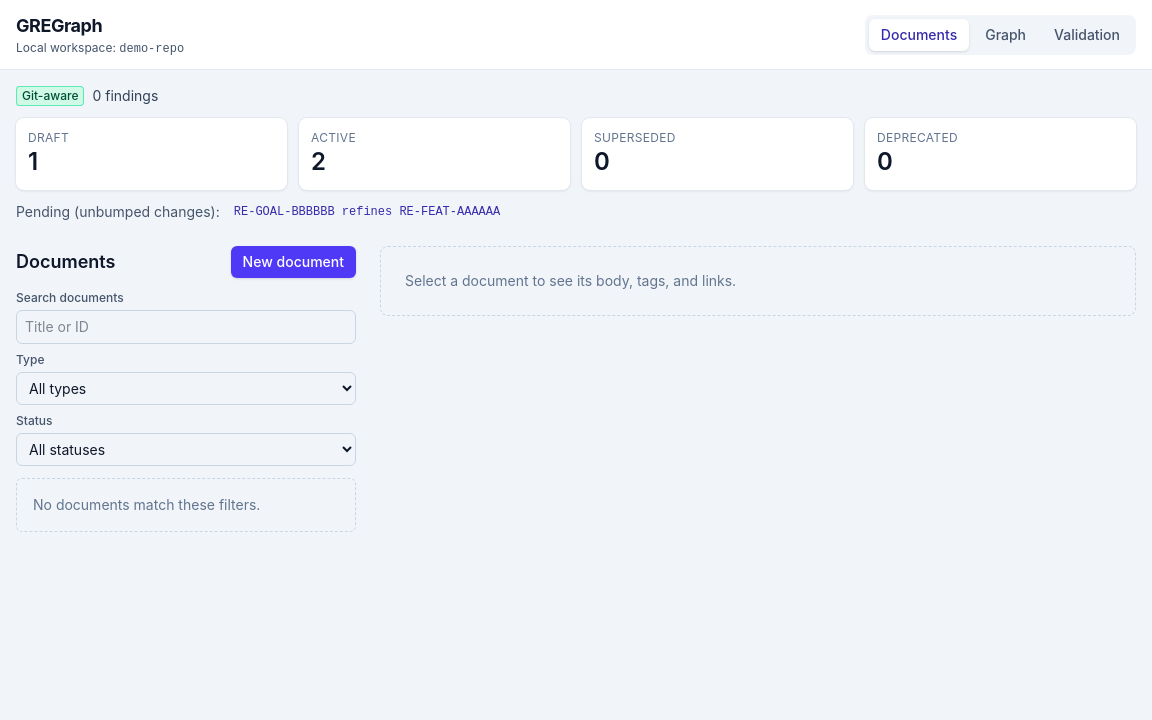
Test: App create dialog › omits the system cr type, creates a document, and selects it
The image size is (1152, 720).
Click the button "New document" at (293, 262), box [231,246,356,278]
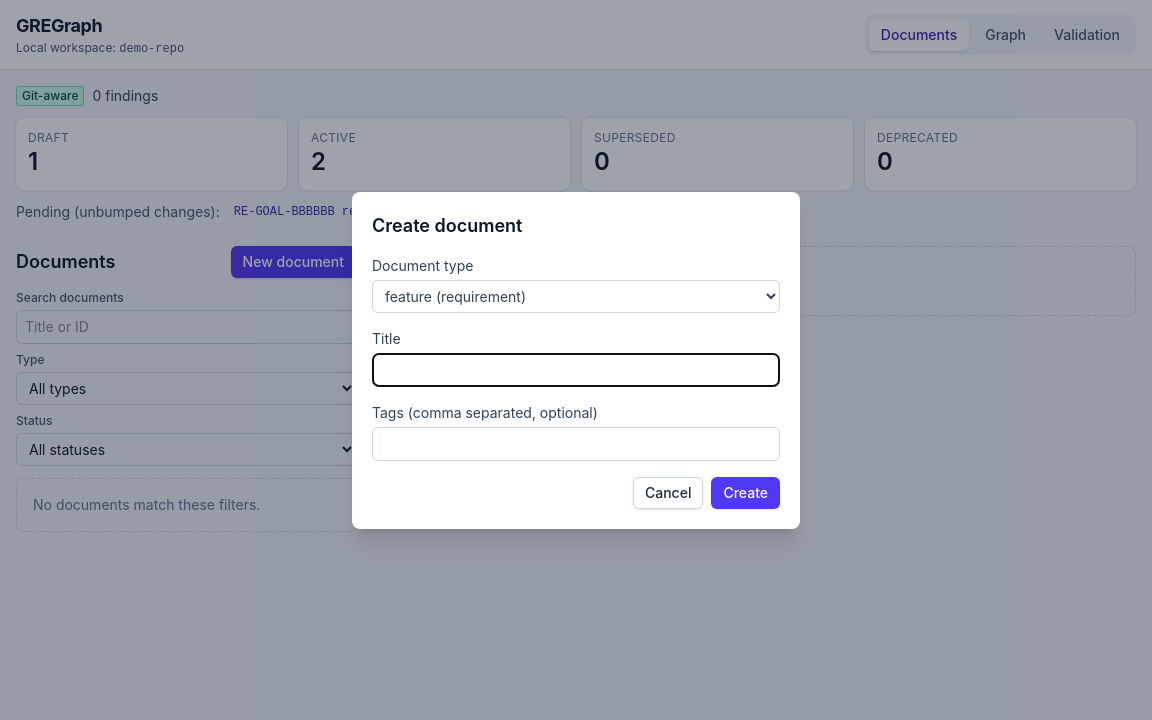
Select "feature (requirement)" in the dropdown labelled "Document type" at (576, 296), box [372,280,780,312]
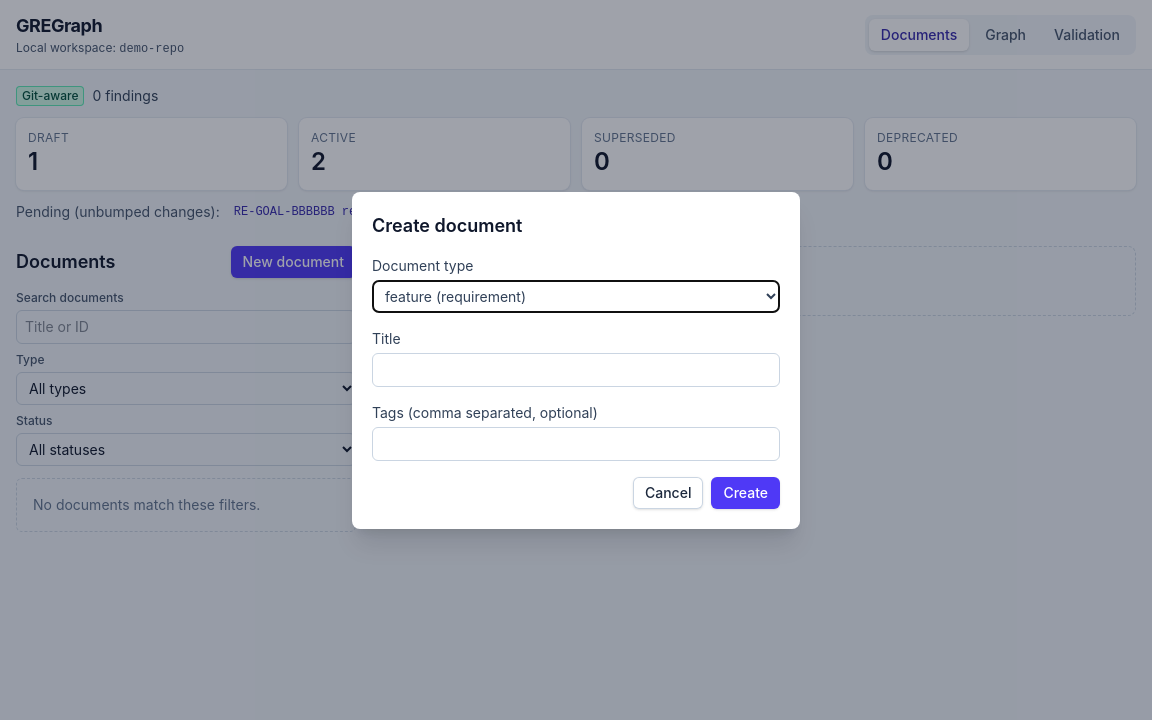
Type "New thing" into the field labelled "Title" at (576, 370), box [372,352,780,386]
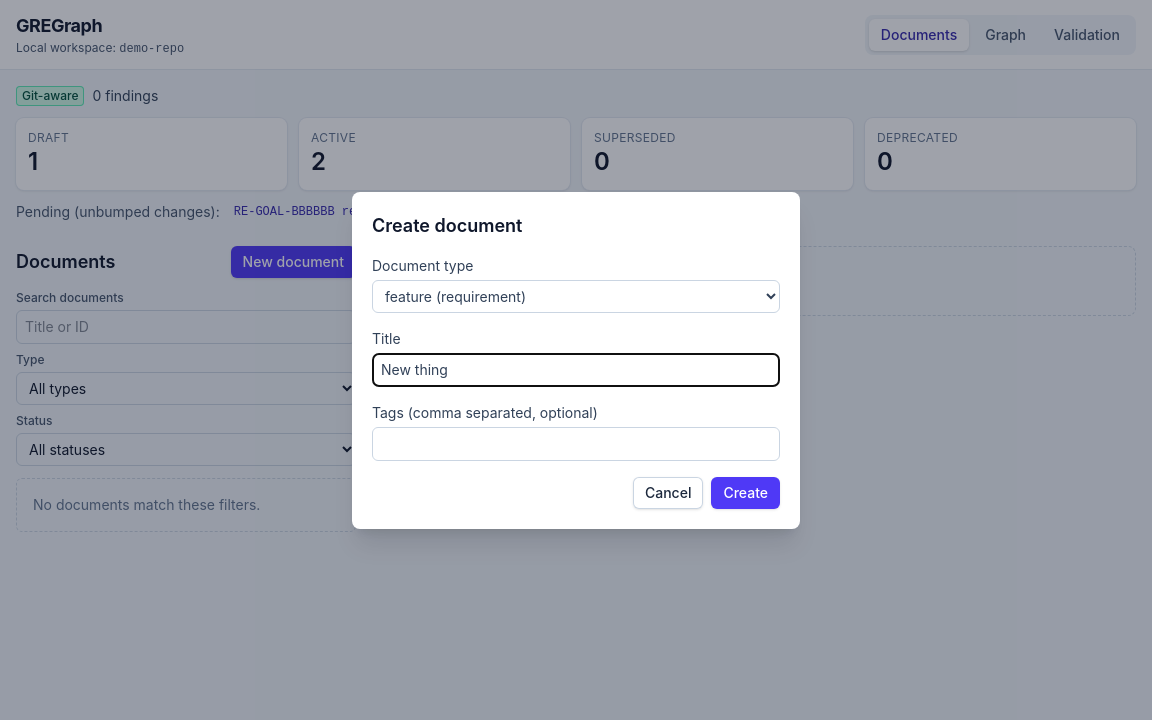
Click the button "Create" at (746, 492), box [711,476,780,508]
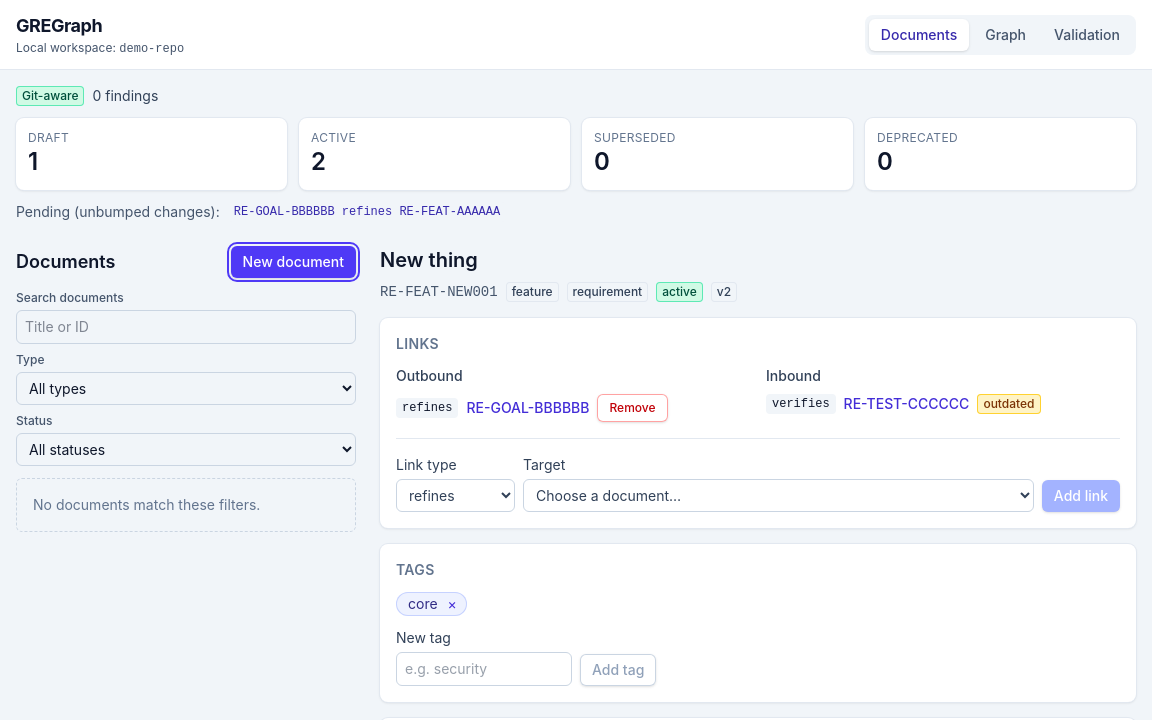
Expected: the heading "New thing" is shown, [380,248,478,272]
Expected: the heading "Create document" is gone
